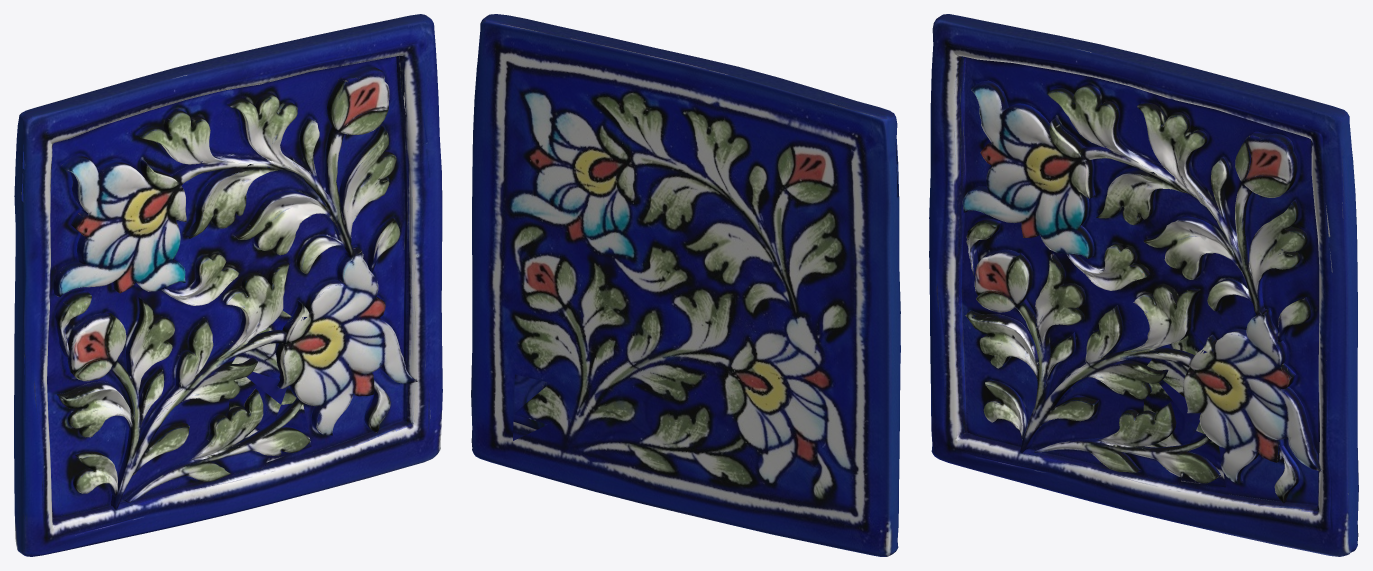
The model's file is blue-floral-tile.glb.
3 renders of one model, left to right at view 1: azimuth 30°, elevation 25°; view 2: azimuth 150°, elevation 25°; view 3: azimuth 330°, elevation 25°, orthographic.
Parts seen in each view (by area): view 1: blue-floral-tile; view 2: blue-floral-tile; view 3: blue-floral-tile.
Boxes of the visible parts, <box> form: blue-floral-tile: <box>14,14,442,556</box>; blue-floral-tile: <box>471,14,900,556</box>; blue-floral-tile: <box>929,14,1358,556</box>.
Size of the model in its own units: 0.1942 by 0.2 by 0.0113.
1 material, 1 textured.
